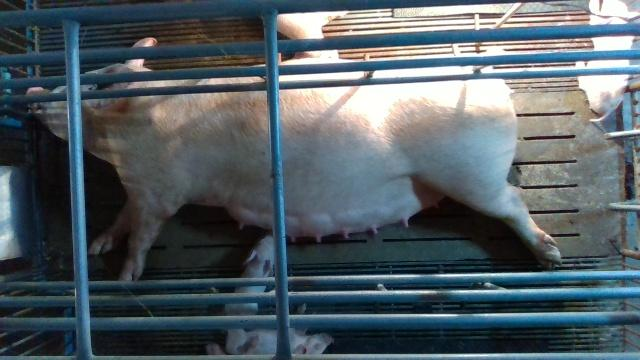piglet: (577, 0, 640, 123), (227, 303, 334, 354), (222, 233, 276, 316)
sow-sleep-lactate: (29, 37, 562, 279)
